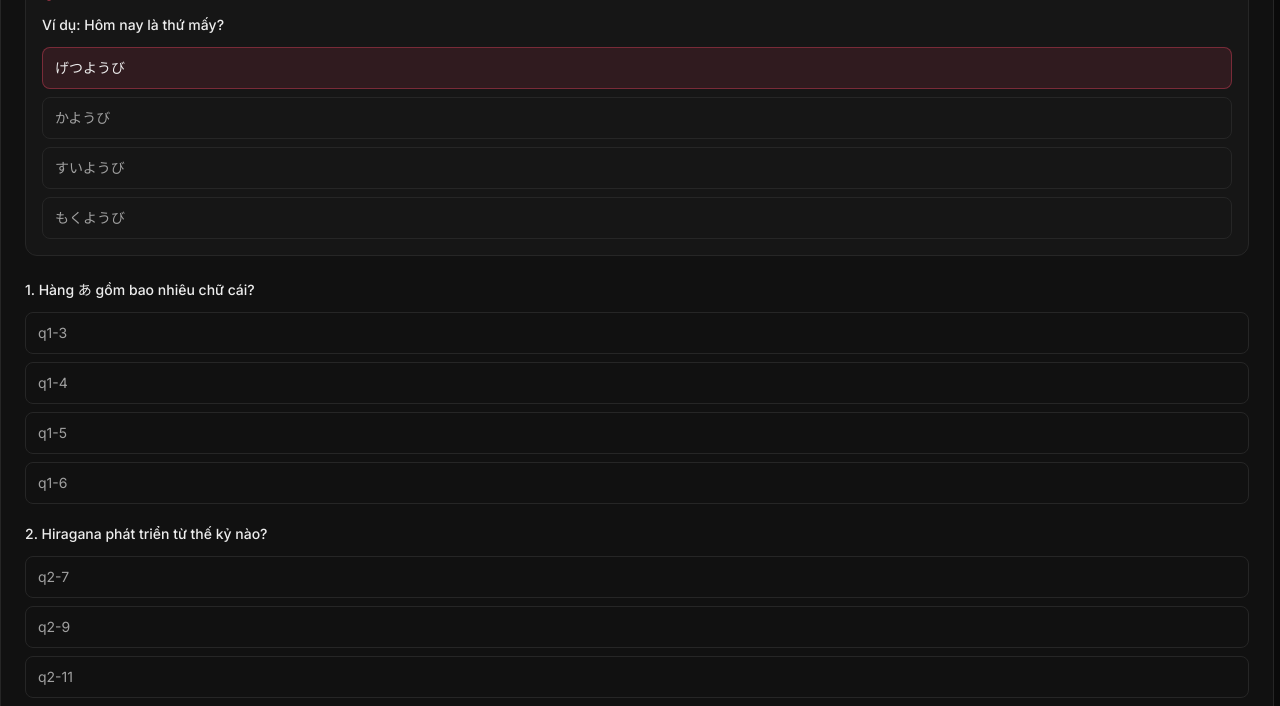
Test: ContentStep — sau swap V10, là trắc nghiệm 4 đáp án › nút Tiếp theo chỉ enable khi tất cả câu đã chọn đáp án
The image size is (1280, 706).
Click the button "q1-3": {"x": 53, "y": 332} left=25, top=312, right=1249, bottom=354
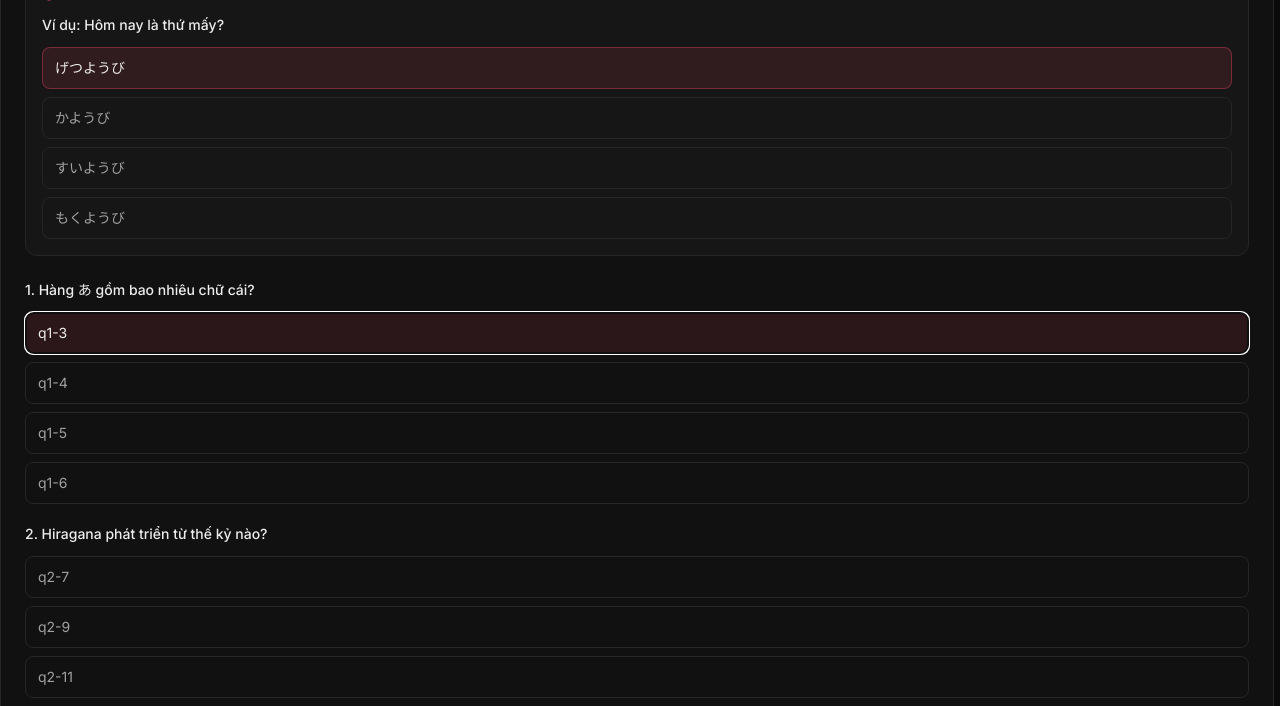
Click the button "q2-7": {"x": 54, "y": 576} left=25, top=556, right=1249, bottom=598
(page scrolled)
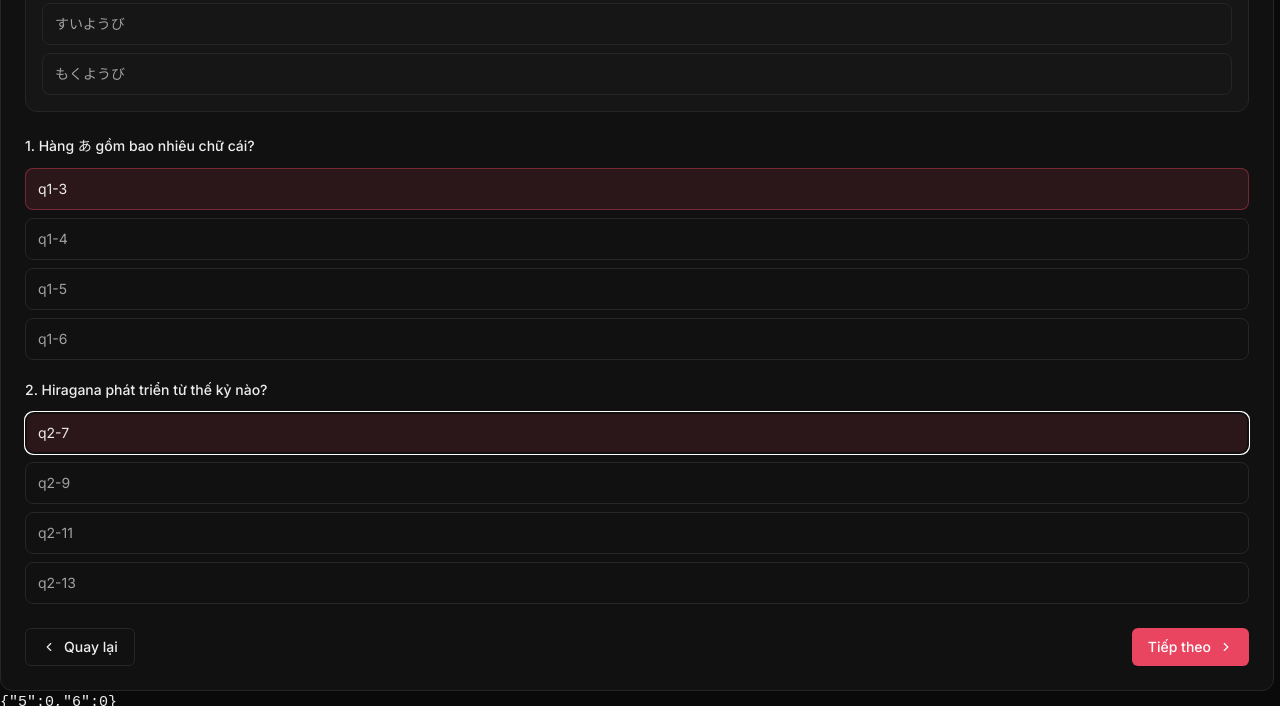
expect the button "Tiếp theo" is enabled: met, box left=1132, top=628, right=1249, bottom=666
